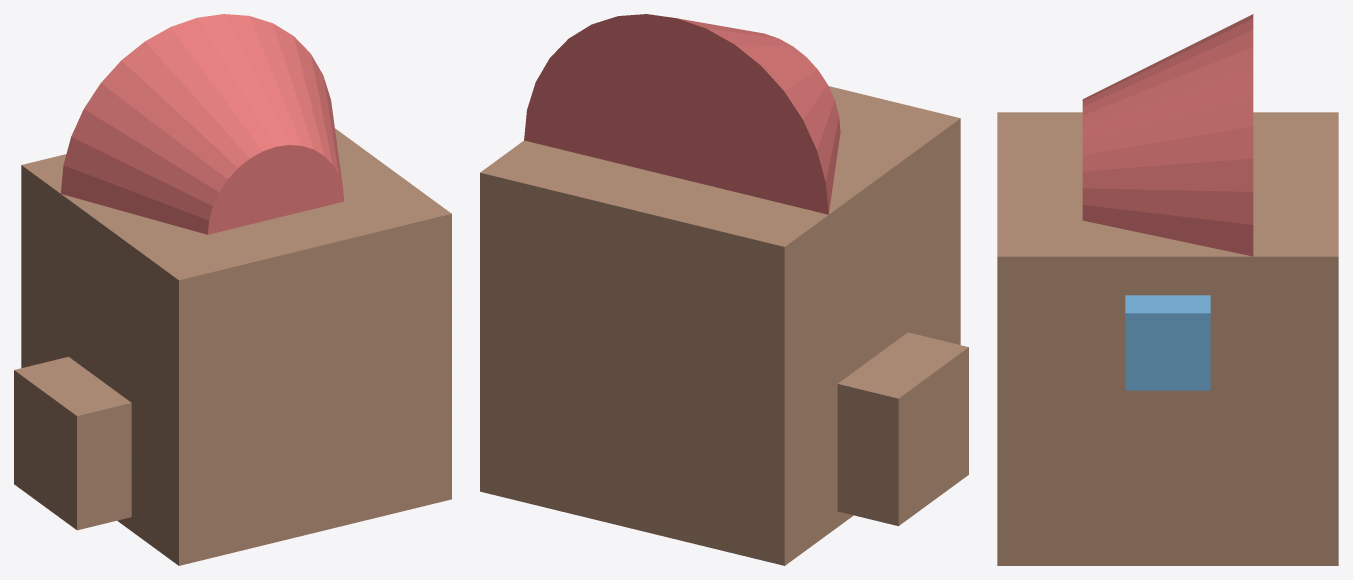
The picture shows the model from 3 angles, left to right: view 1: azimuth 30°, elevation 25°; view 2: azimuth 150°, elevation 25°; view 3: azimuth 270°, elevation 25°; orthographic projection. The views are drawn at different scales.
Visible parts, largest first — view 1: House Body, House Roof, Door; view 2: House Body, House Roof, Door; view 3: House Body, House Roof, Window.
Part boxes in pixels (<box>): House Body: <box>21,128,451,565</box>; House Roof: <box>60,14,344,234</box>; Door: <box>14,357,131,530</box>; House Body: <box>480,86,960,565</box>; House Roof: <box>524,14,840,214</box>; Door: <box>837,332,968,526</box>; House Body: <box>997,112,1338,565</box>; House Roof: <box>1082,14,1253,256</box>; Window: <box>1125,295,1210,390</box>.
Size of what is drawn, in the model's own units: 2.65 by 3 by 2.
